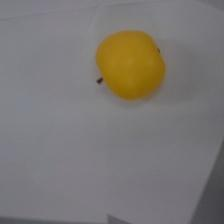yellow: (92, 28, 168, 103)
